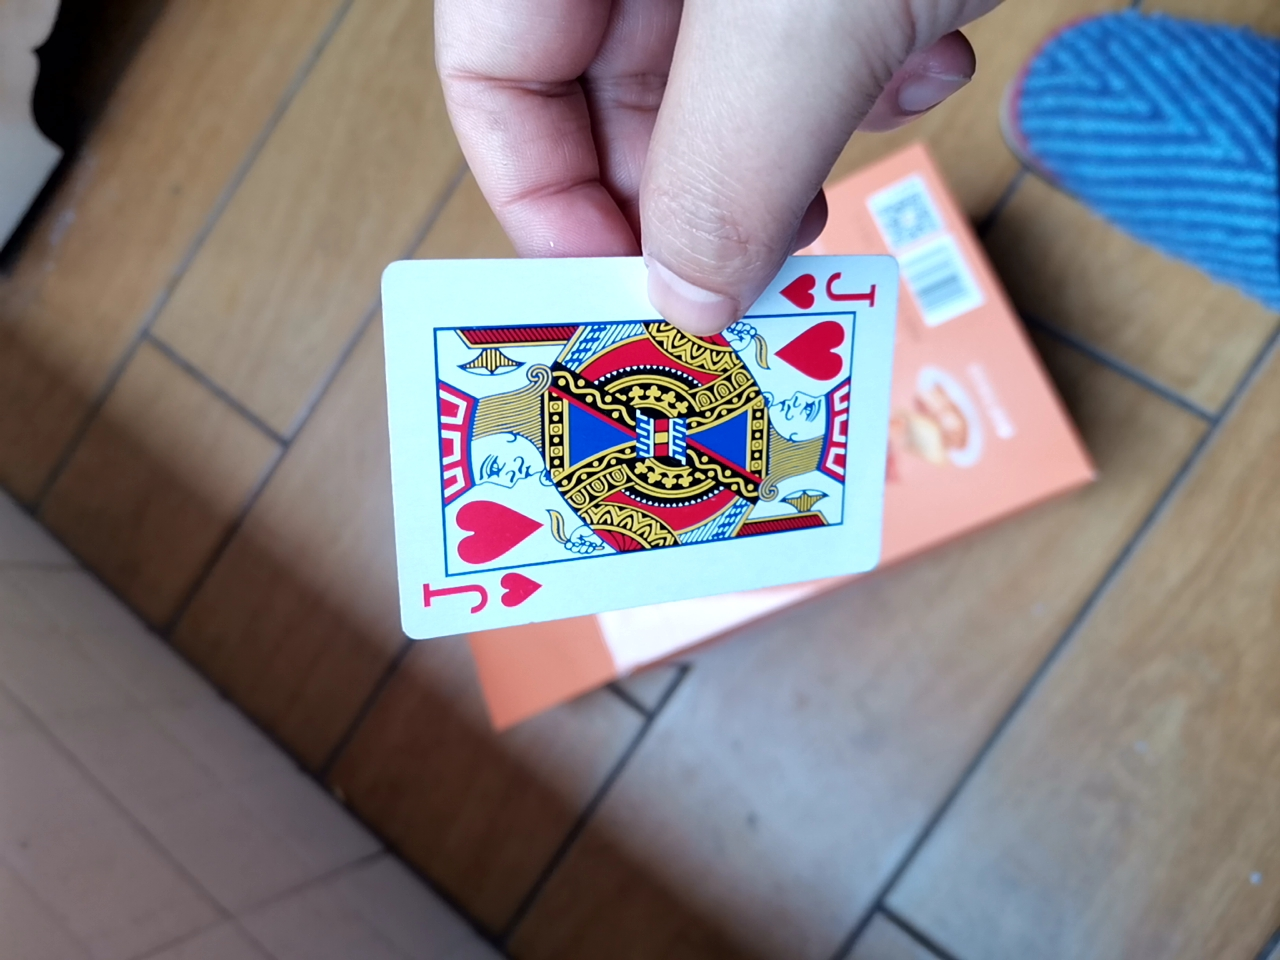hx j: (366, 241, 942, 683)
